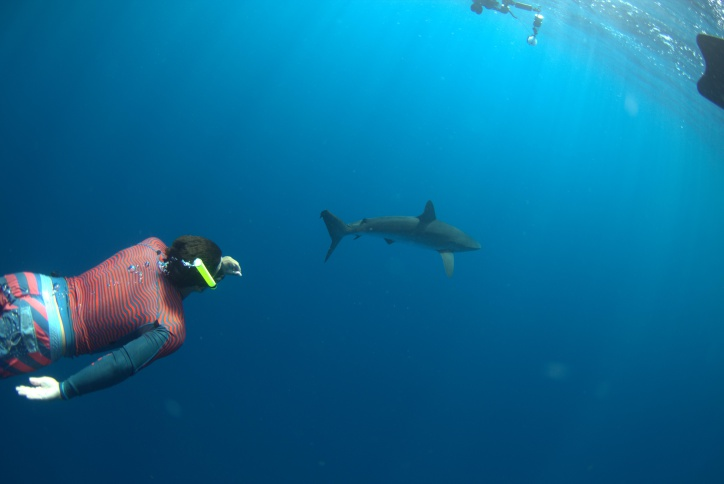Sedoso: (316, 189, 488, 280)
